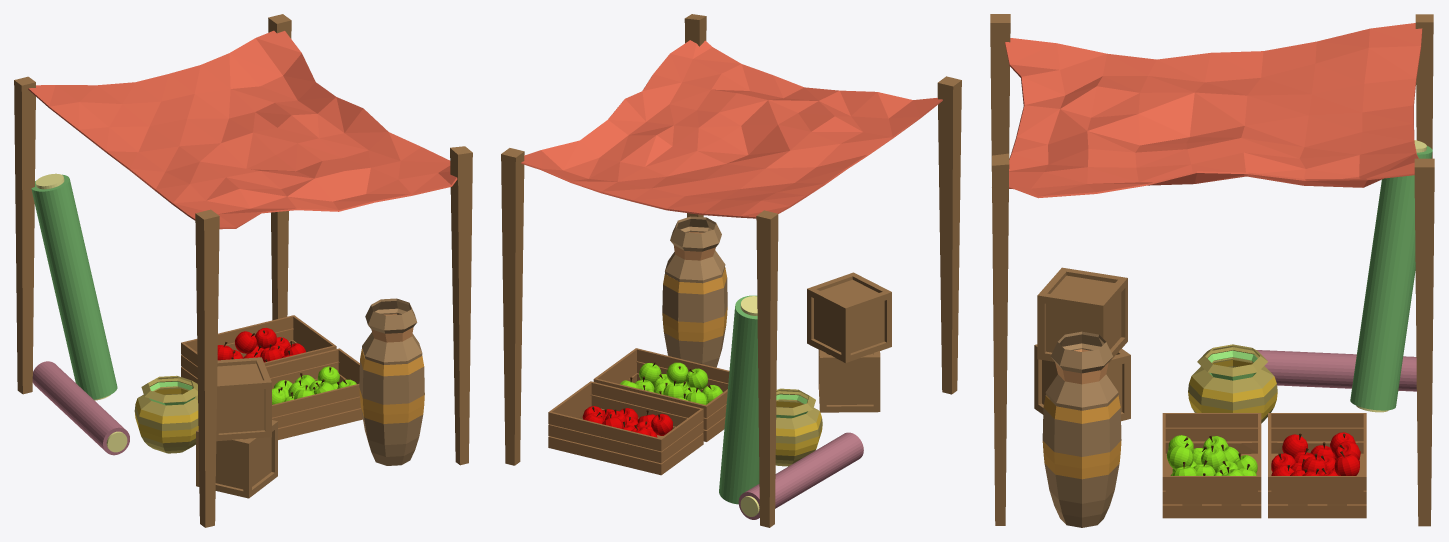
File: SL_Shop1.fbx
The picture shows the model from 3 angles, left to right: view 1: azimuth 30°, elevation 25°; view 2: azimuth 150°, elevation 25°; view 3: azimuth 270°, elevation 25°; orthographic projection. The views are drawn at different scales.
Parts seen in each view (by area): view 1: SL_Shop; view 2: SL_Shop; view 3: SL_Shop.
Part boxes in pixels (x1=…): SL_Shop: x1=14, y1=14, x2=472, y2=527; SL_Shop: x1=501, y1=14, x2=961, y2=527; SL_Shop: x1=990, y1=14, x2=1434, y2=527.
Size of the model in its own units: 608 by 695 by 736.
